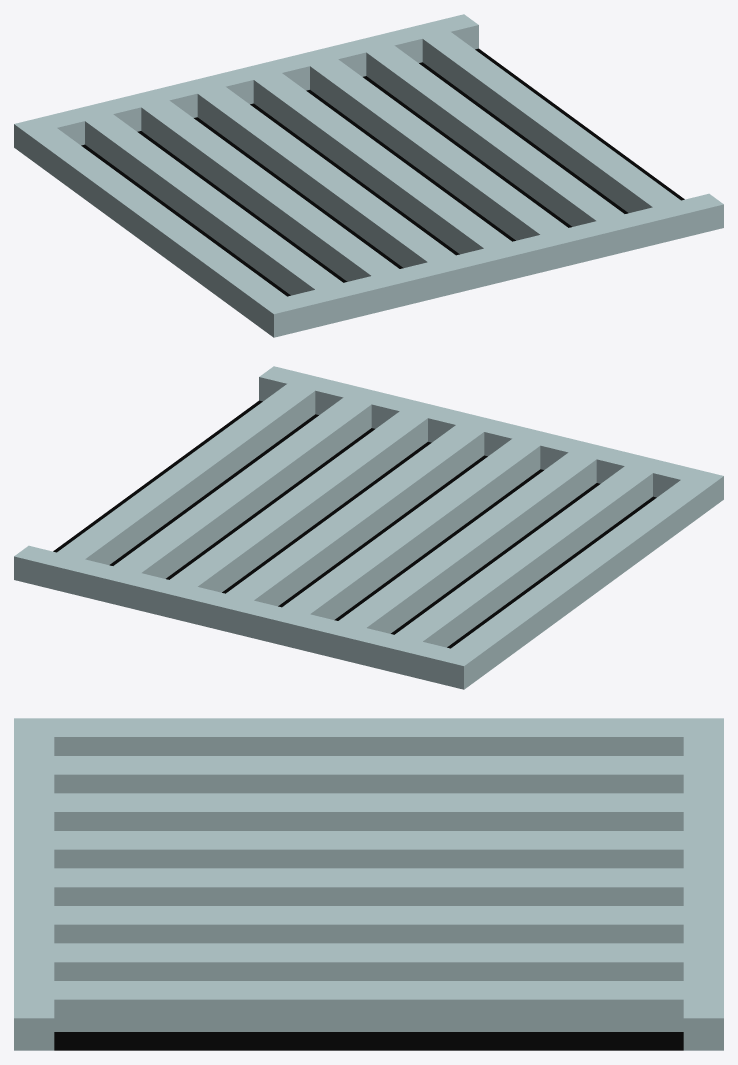
The model's file is Abfluss2.dae.
3 views of the same model, one above another, from view 1: azimuth 30°, elevation 25°; view 2: azimuth 150°, elevation 25°; view 3: azimuth 270°, elevation 25° (orthographic). The views are drawn at different scales.
Parts seen in each view (by area): view 1: Plane; view 2: Plane; view 3: Plane.
Part boxes in pixels (x1=…): Plane: x1=14, y1=14, x2=723, y2=337; Plane: x1=14, y1=366, x2=723, y2=689; Plane: x1=14, y1=718, x2=723, y2=1050.
Size of the model in its own units: 2 by 2 by 0.1.
